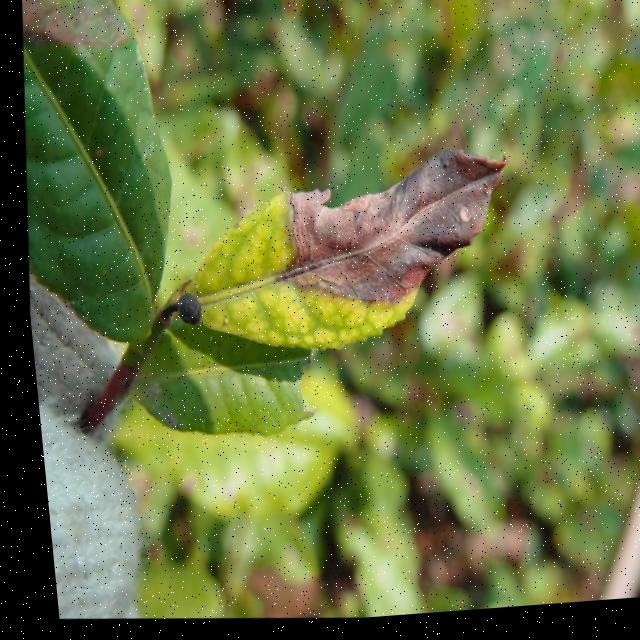Tea cloud leaf blight: (259, 132, 511, 309)
